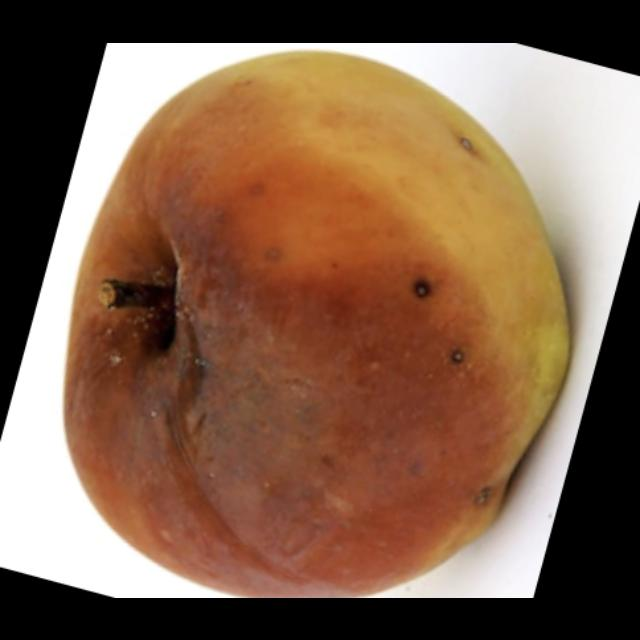Apel Tidak Segar: (58, 53, 573, 597)
